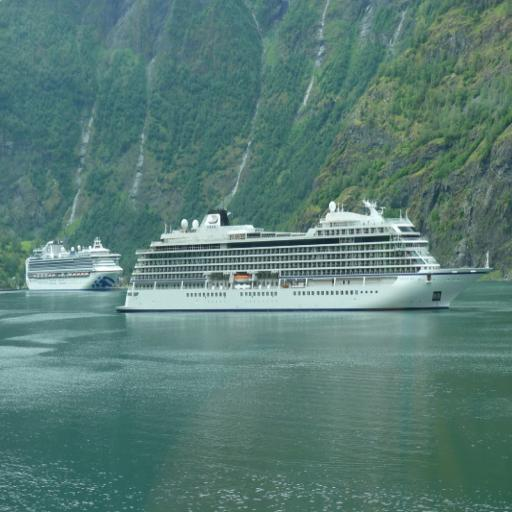cruises: (116, 202, 497, 320), (25, 234, 125, 295)
